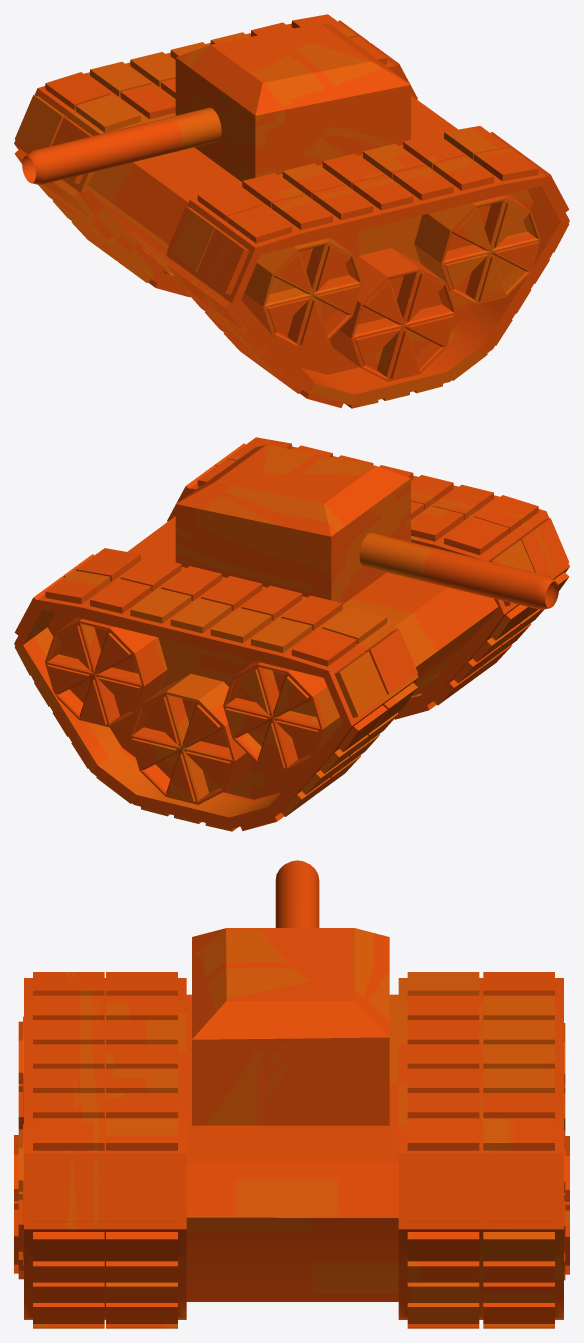
The model's file is Boost.fbx.
3 renders of one model, top to bottom at view 1: azimuth 30°, elevation 25°; view 2: azimuth 150°, elevation 25°; view 3: azimuth 270°, elevation 25°, orthographic. The views are drawn at different scales.
Visible parts, largest first — view 1: polySurface31, pCube9, polySurface32, polySurface29, polySurface30, polySurface25, polySurface28, polySurface35, polySurface34, pCylinder9, polySurface33; view 2: polySurface34, pCube9, polySurface35, polySurface37, polySurface36, polySurface38, polySurface32, polySurface25, polySurface31, pCylinder9, polySurface39; view 3: polySurface25, pCube9, polySurface34, polySurface35, polySurface32, polySurface31, pCylinder9, polySurface30, polySurface29, polySurface37, polySurface28.
Part boxes in pixels (left/top/right/bottom): polySurface31: left=196, top=147, right=569, bottom=408; pCube9: left=175, top=23, right=410, bottom=181; polySurface32: left=166, top=126, right=521, bottom=371; polySurface29: left=329, top=248, right=456, bottom=381; polySurface30: left=414, top=194, right=540, bottom=304; polySurface25: left=87, top=95, right=457, bottom=272; polySurface28: left=241, top=238, right=362, bottom=347; polySurface35: left=50, top=36, right=417, bottom=297; polySurface34: left=14, top=14, right=369, bottom=272; pCylinder9: left=22, top=107, right=221, bottom=184; polySurface33: left=273, top=190, right=533, bottom=374; polySurface34: left=14, top=570, right=387, bottom=831; pCube9: left=175, top=444, right=410, bottom=604; polySurface35: left=63, top=548, right=418, bottom=794; polySurface37: left=129, top=674, right=253, bottom=804; polySurface36: left=45, top=617, right=167, bottom=727; polySurface38: left=223, top=661, right=342, bottom=770; polySurface32: left=167, top=459, right=534, bottom=719; polySurface25: left=127, top=516, right=498, bottom=695; polySurface31: left=215, top=437, right=569, bottom=695; pCylinder9: left=359, top=532, right=558, bottom=609; polySurface39: left=47, top=612, right=342, bottom=799; polySurface25: left=186, top=994, right=398, bottom=1301; pCube9: left=192, top=928, right=389, bottom=1125; polySurface34: left=474, top=972, right=563, bottom=1328; polySurface35: left=398, top=972, right=488, bottom=1328; polySurface32: left=97, top=972, right=186, bottom=1328; polySurface31: left=24, top=972, right=113, bottom=1328; pCylinder9: left=275, top=860, right=319, bottom=927; polySurface30: left=18, top=1124, right=23, bottom=1265; polySurface29: left=14, top=1135, right=23, bottom=1279; polySurface37: left=564, top=1136, right=569, bottom=1280; polySurface28: left=18, top=1016, right=23, bottom=1129.
Bounding box in the file's own units: 11.07 × 6.63 × 9.92.
